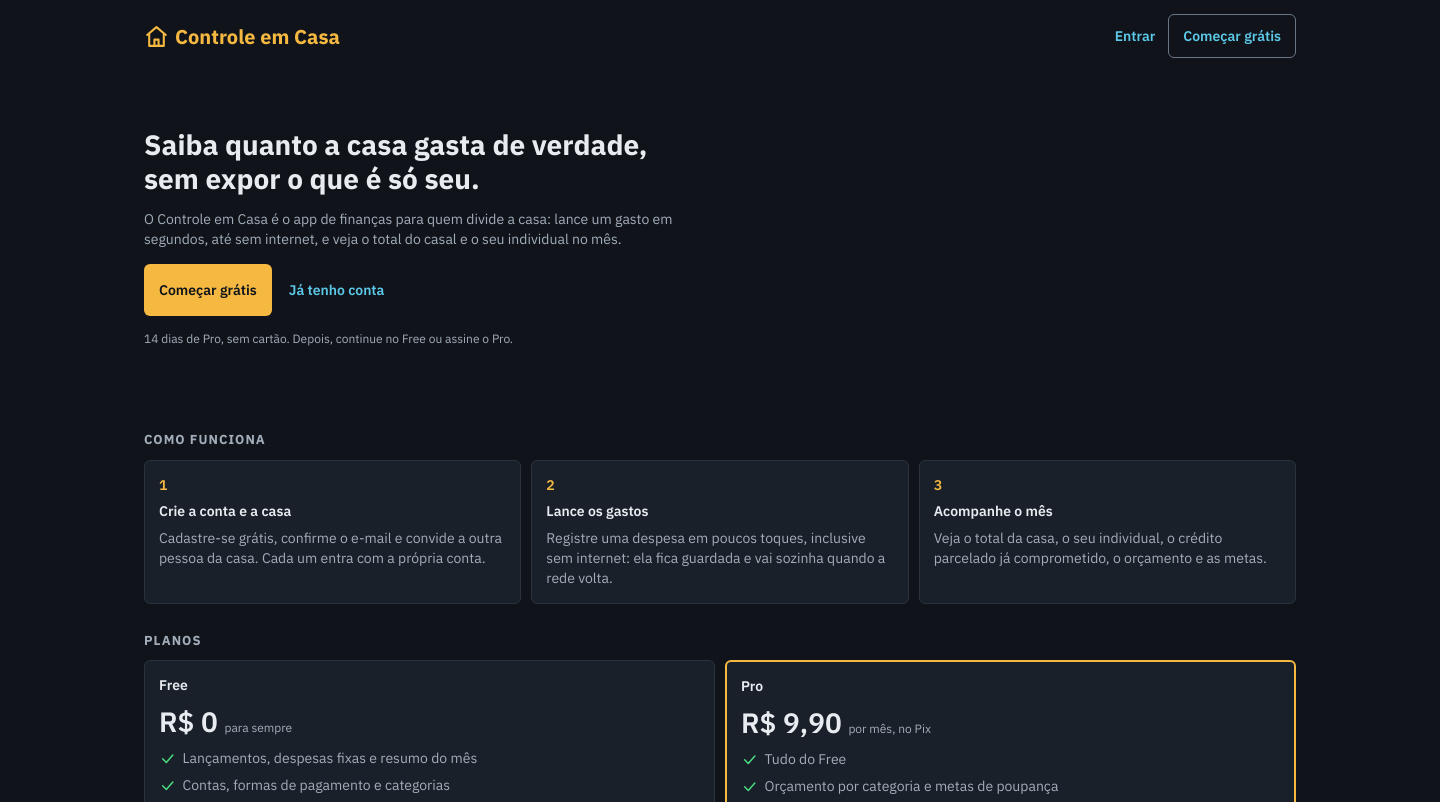
Test case: visitante › de "Começar grátis" se chega ao cadastro (navegável até o fim)
Expected: the 1st heading is shown, [144,128,704,195]
Click the 1st link "Começar grátis". click: coordinates (1232, 36)
box: [1168,14,1296,58]
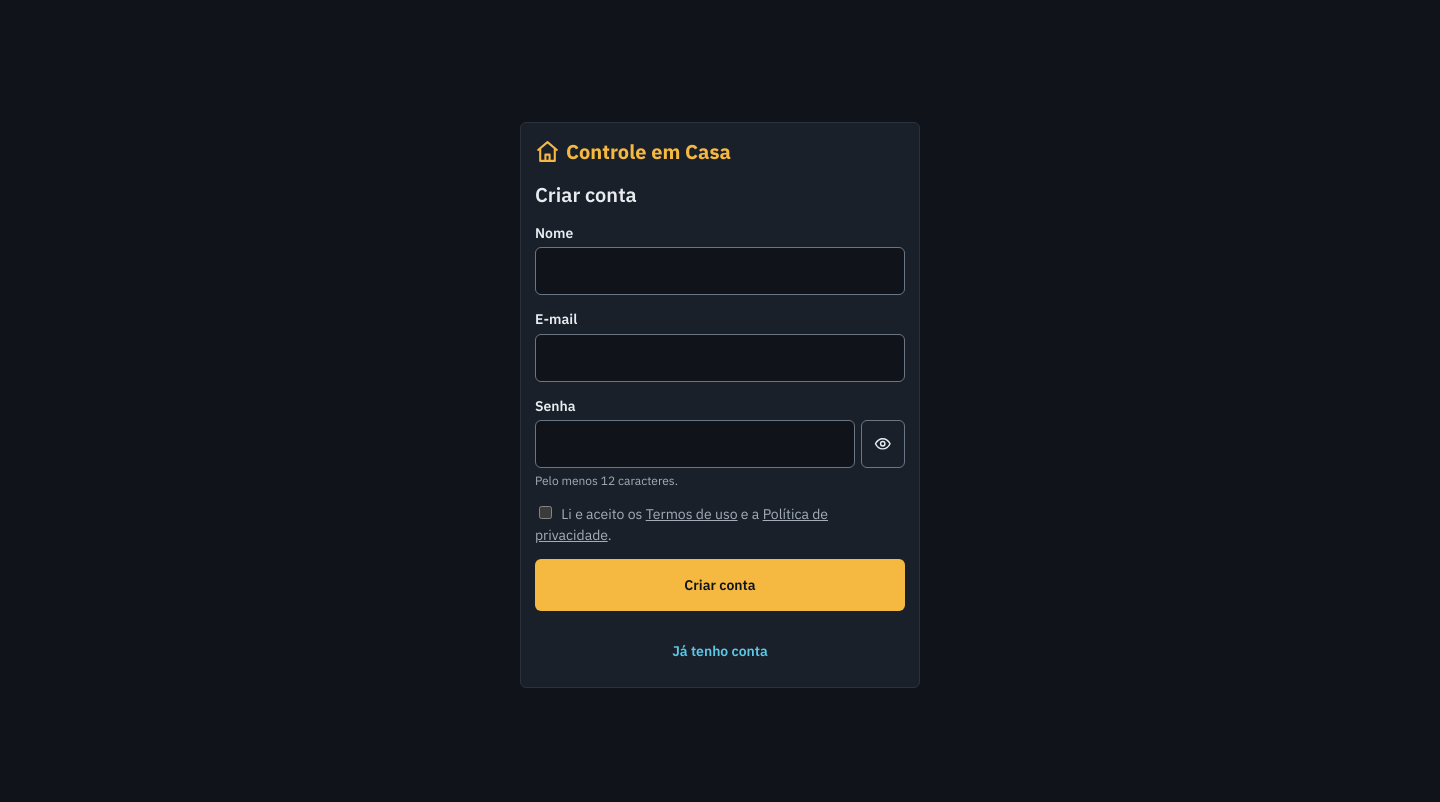
Expected: the heading "Criar conta" is shown, [535,181,637,208]
